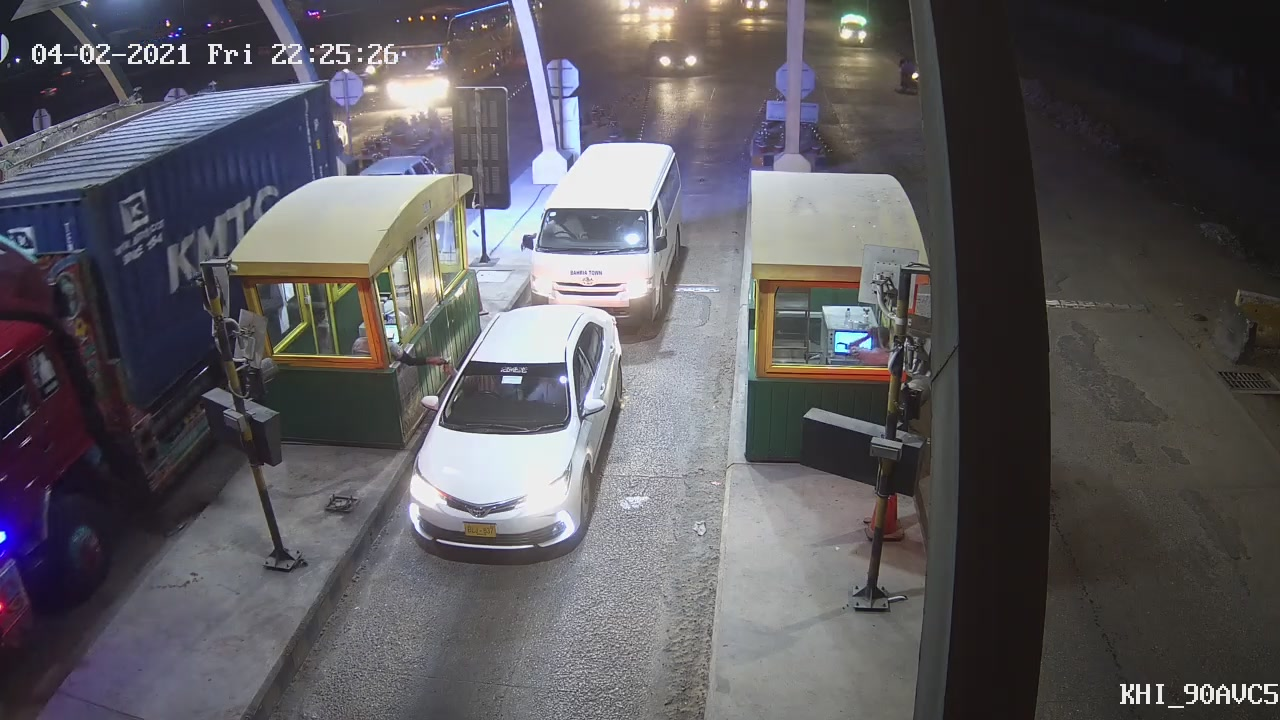F1: (410, 302, 628, 561)
